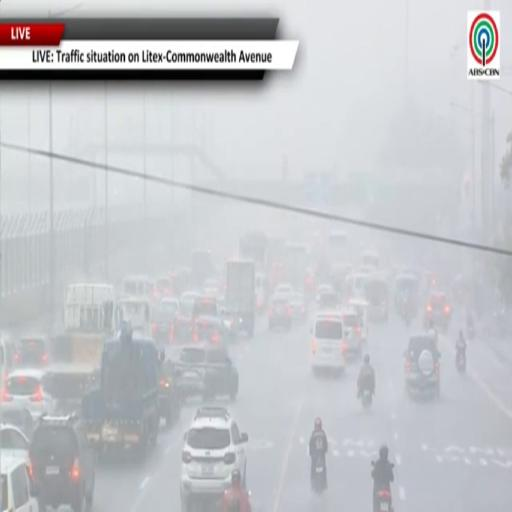car: (181, 408, 248, 511), (29, 415, 95, 511), (176, 344, 238, 399), (2, 368, 54, 419), (0, 454, 43, 511), (405, 333, 440, 396), (311, 311, 345, 374), (159, 359, 181, 426), (152, 299, 179, 344), (2, 403, 35, 439), (193, 315, 230, 345), (394, 274, 420, 316), (365, 277, 389, 322), (0, 423, 29, 460), (14, 336, 48, 367), (424, 293, 451, 331), (342, 310, 363, 358), (268, 294, 292, 330), (344, 270, 370, 301), (219, 306, 241, 340), (192, 295, 218, 318), (180, 292, 200, 321), (289, 293, 307, 323), (316, 291, 341, 310), (154, 277, 173, 300), (203, 278, 221, 297), (316, 283, 335, 297), (274, 283, 293, 295)
motorcycle: (313, 457, 326, 494), (375, 488, 393, 511), (376, 489, 393, 511), (400, 300, 412, 327), (456, 350, 466, 373), (361, 389, 372, 409), (468, 325, 475, 340)
truck: (82, 327, 160, 455), (46, 283, 119, 413), (225, 260, 255, 338), (283, 244, 308, 291), (239, 231, 267, 268), (267, 237, 285, 290), (191, 249, 215, 287)
